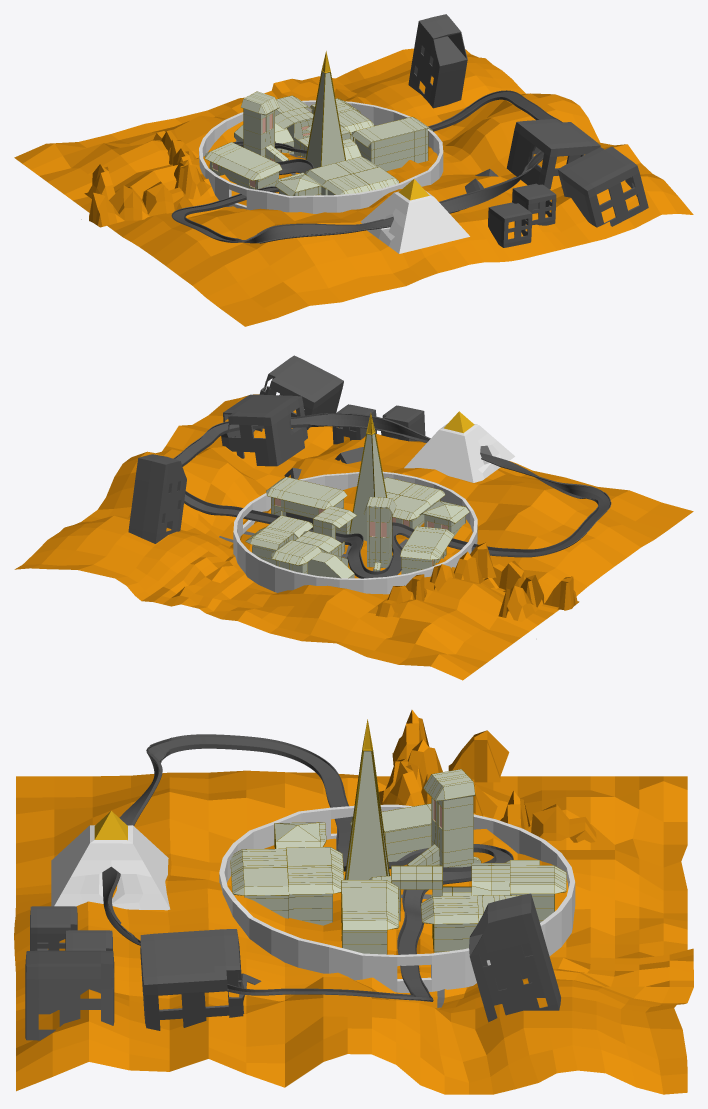
File: JWT_P_Sand Dune_DONE_kindof.fbx
3 renders of one model, top to bottom at view 1: azimuth 30°, elevation 25°; view 2: azimuth 150°, elevation 25°; view 3: azimuth 270°, elevation 25°, orthographic. The views are drawn at different scales.
Parts seen in each view (by area): view 1: Plane, Cylinder, Cube.014, Pyramid, Cube.018, Cube.012, Cube.017, Cube.003, Cube.002, Cube.007, Cube.001, Cube (+14 smaller); view 2: Plane, Cylinder, Cube.012, Cube.017, Cube.018, Pyramid, Cube.014, Cube, Cube.003, Cube.016, Cube.002, Cube.001 (+16 smaller); view 3: Plane, Cylinder, Cube.017, Cube.018, Pyramid, Cube.014, Cube.012, Cube.001, Cube.002, Cube.003, Cube, Cube.006 (+17 smaller).
Part boxes in pixels (x1,y1,x2,y2): Plane: (14, 48, 693, 326); Cylinder: (199, 100, 443, 213); Cube.014: (558, 146, 648, 227); Pyramid: (360, 179, 469, 253); Cube.018: (408, 14, 467, 108); Cube.012: (172, 92, 554, 242); Cube.017: (506, 119, 600, 189); Cube.003: (351, 116, 432, 171); Cube.002: (305, 51, 345, 168); Cube.007: (204, 142, 282, 189); Cube.001: (241, 91, 288, 161); Cube: (234, 107, 361, 160); Plane: (14, 394, 693, 680); Cylinder: (233, 471, 477, 594); Cube.012: (175, 414, 609, 578); Cube.017: (221, 394, 307, 466); Cube.018: (128, 454, 186, 543); Pyramid: (404, 411, 514, 482); Cube.014: (259, 355, 343, 430); Cube: (295, 506, 356, 578); Cube.003: (266, 477, 347, 524); Cube.016: (182, 424, 599, 574); Cube.002: (349, 412, 387, 541); Cube.001: (364, 497, 396, 571); Plane: (14, 770, 693, 1094); Cylinder: (219, 804, 575, 992); Cube.017: (140, 929, 244, 1030); Cube.018: (469, 893, 560, 1022); Pyramid: (51, 811, 170, 910); Cube.014: (25, 950, 114, 1040); Cube.012: (103, 737, 512, 1001); Cube.001: (407, 769, 481, 867); Cube.002: (344, 719, 390, 879); Cube.003: (341, 880, 399, 954); Cube: (369, 860, 539, 937); Cube.006: (287, 865, 344, 925).
Size of the model in its own units: 208615 by 63317 by 181435.
